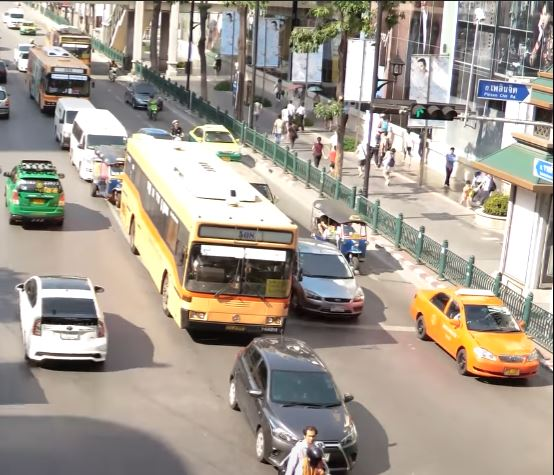Bus: (119, 133, 296, 342), (27, 44, 91, 114), (69, 107, 127, 179), (48, 23, 93, 69), (54, 97, 94, 147)
Car: (228, 338, 359, 469), (407, 286, 539, 385), (17, 274, 108, 364), (293, 234, 368, 318), (4, 158, 66, 227), (189, 122, 242, 164), (125, 80, 160, 110)
Motorcycle: (146, 90, 159, 122), (106, 59, 119, 82), (170, 118, 183, 141)
TukTuk: (310, 196, 369, 274), (91, 147, 127, 199)
